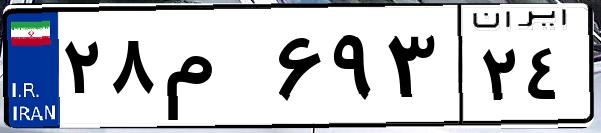2: (57, 26, 110, 100), (475, 38, 525, 113)
3: (385, 28, 445, 110)
4: (525, 38, 570, 115)
6: (270, 28, 330, 110)
8: (110, 28, 158, 98)
9: (330, 28, 385, 110)
م: (158, 20, 270, 120)
